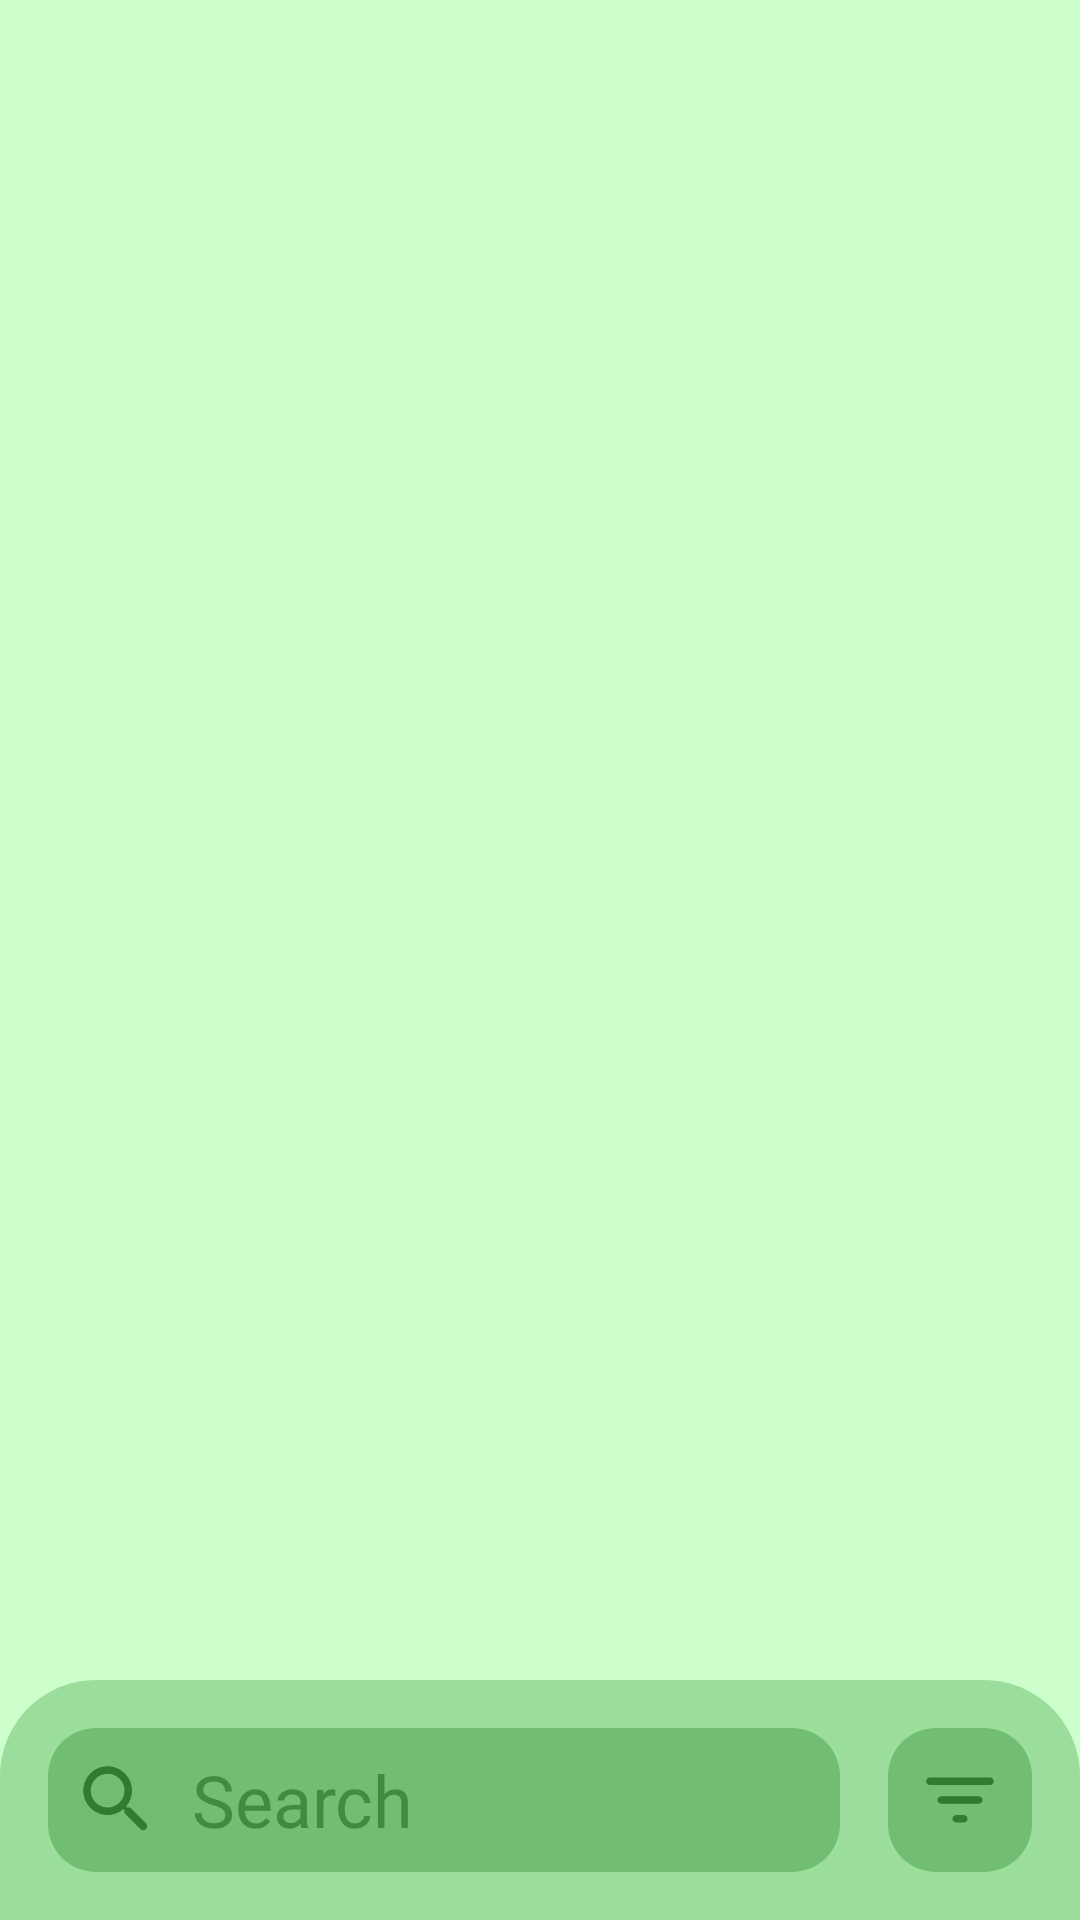

Icons on this 1080px×1920px Android screen, each with the point to tap as point (x, y):
filter list: point (960, 1800)
